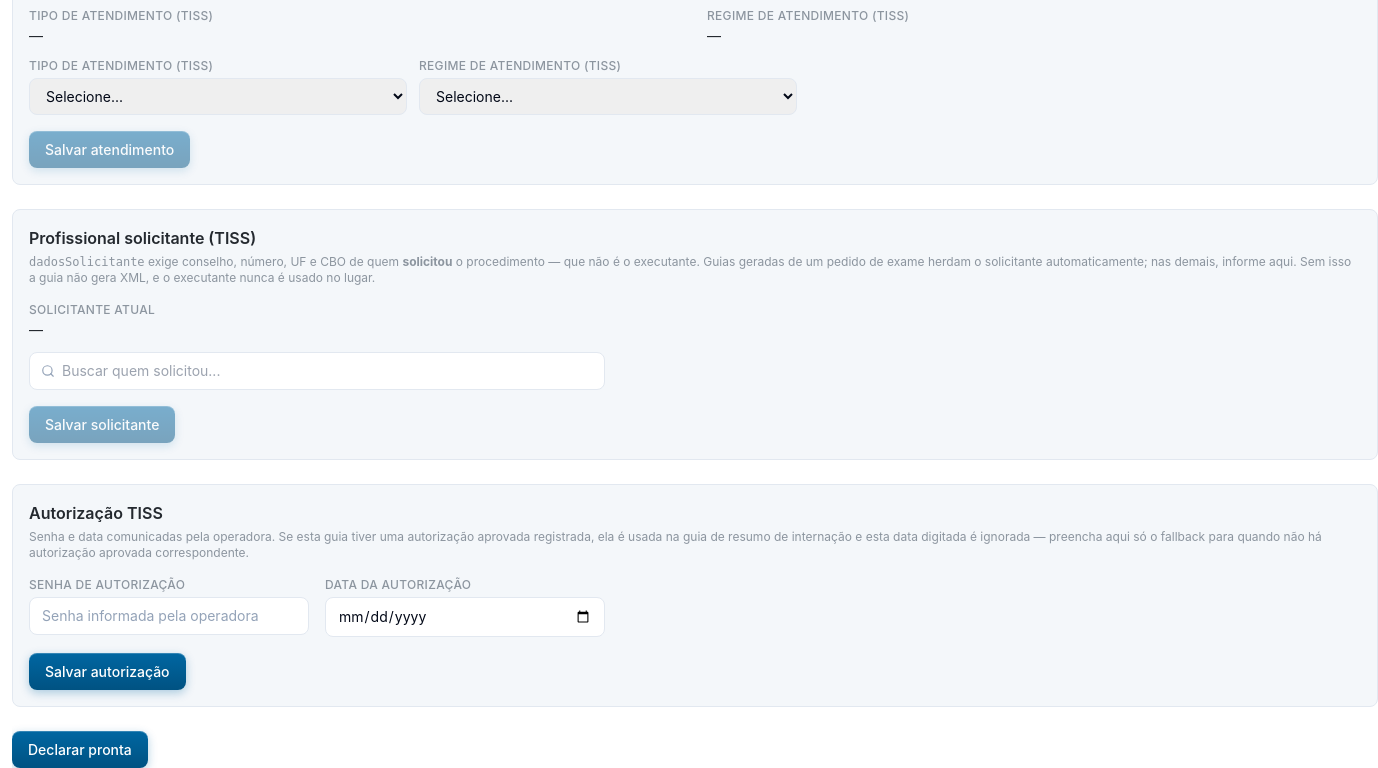
it: GuideDetailPage — authorization_date › saves with a null date when the field is left empty — the field is optional
The image size is (1378, 768).
(page scrolled)
Type "AUTH-2" into the field labelled "Senha de autorização". click: (169, 616)
box: [29,597,309,635]
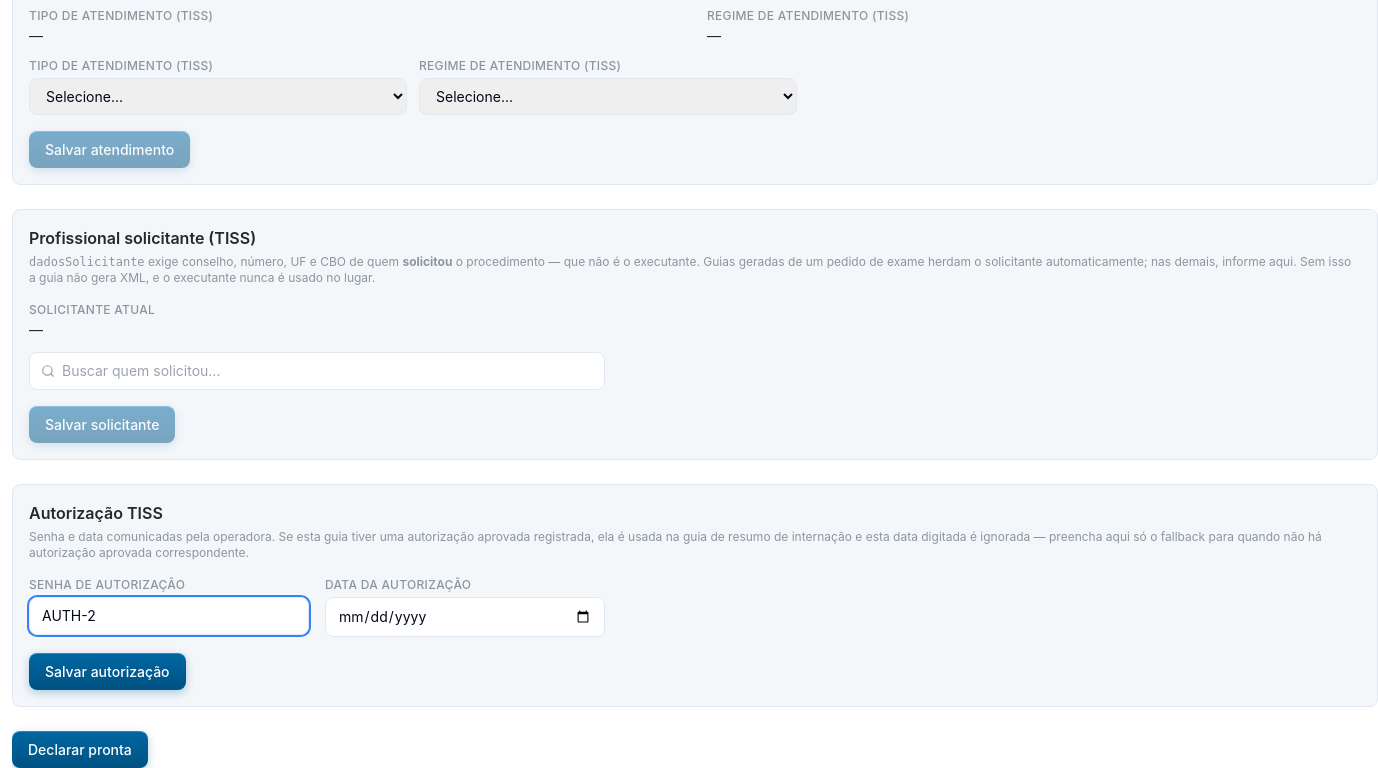
Click the button "Salvar autorização". click: (107, 672)
box: [29,653,186,690]
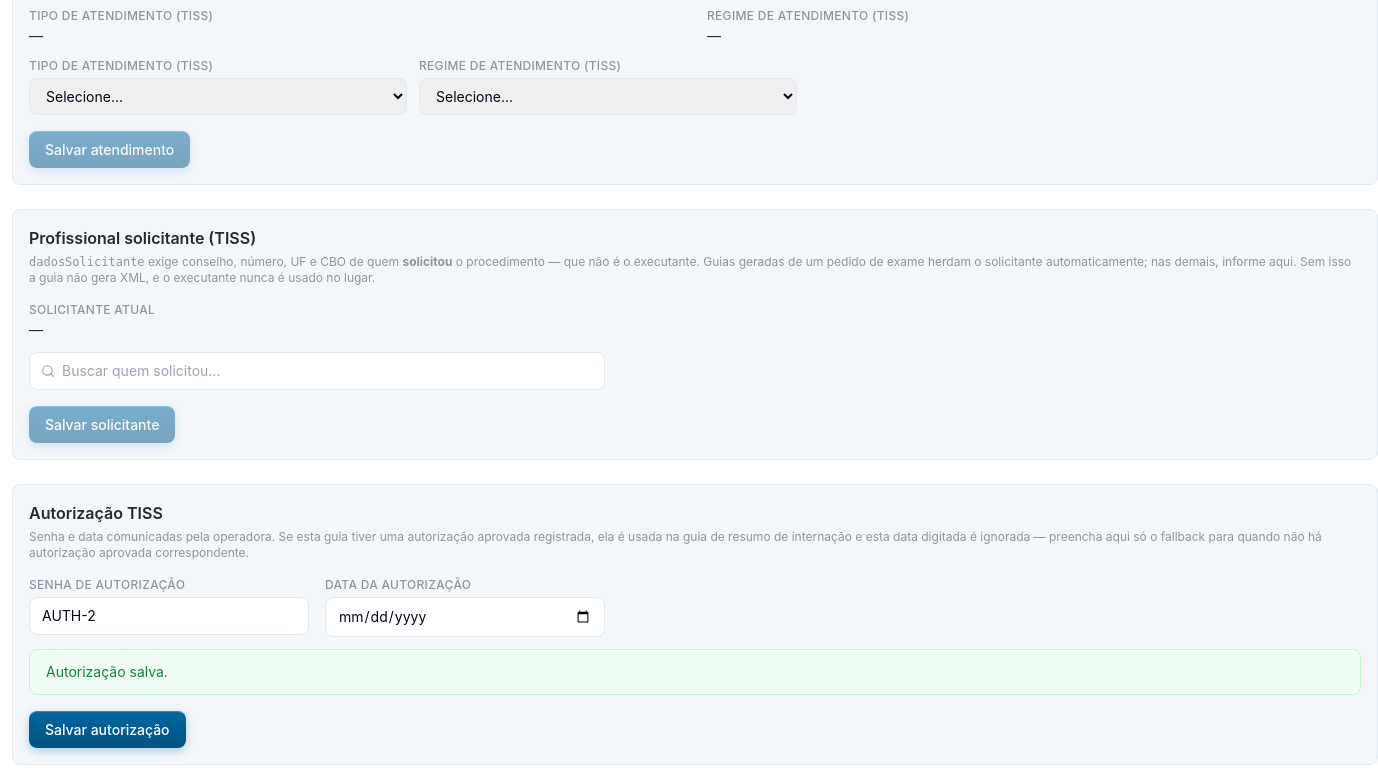
Check: the text "Autorização salva." is shown, box [29,649,1361,695]
